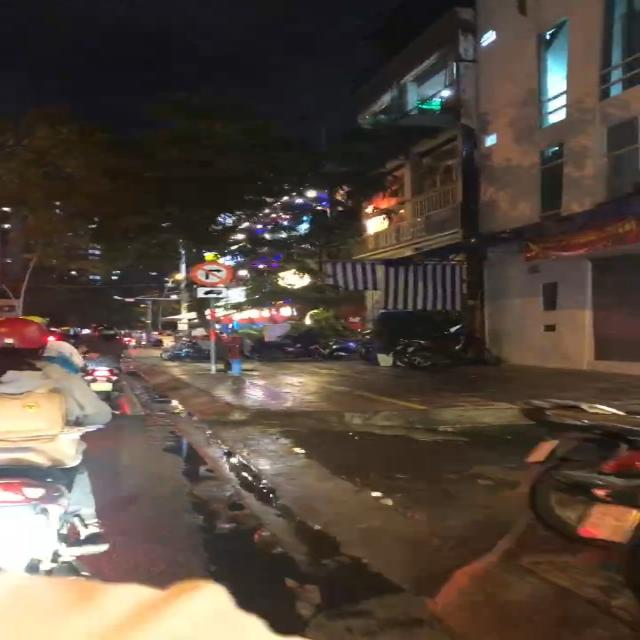Bien bao cam re phai: (188, 261, 236, 285)
